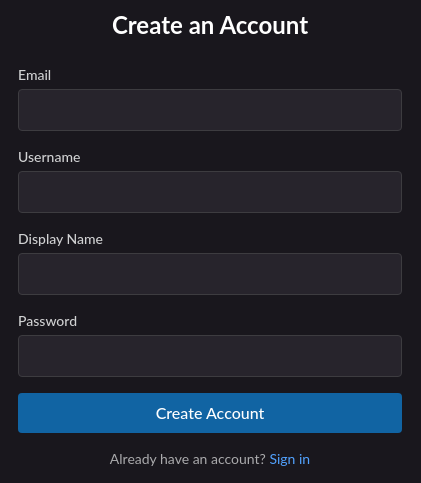
Test case: RegisterForm › shows loading state while submitting
Step 1. Type "test@example.com" into the field below "Email" → {"x": 210, "y": 110}, box x1=18 y1=89 x2=402 y2=131
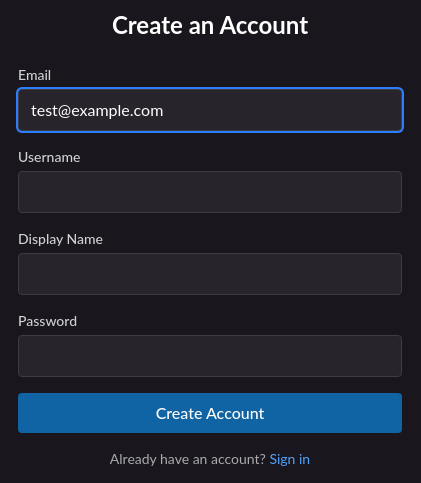
Step 2. Type "testuser" into the field below "Username" → {"x": 210, "y": 192}, box x1=18 y1=171 x2=402 y2=213
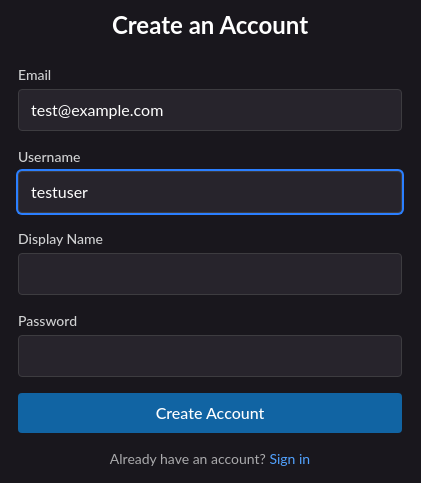
Step 3. Type "password123" into the password field → {"x": 210, "y": 356}, box x1=18 y1=335 x2=402 y2=377
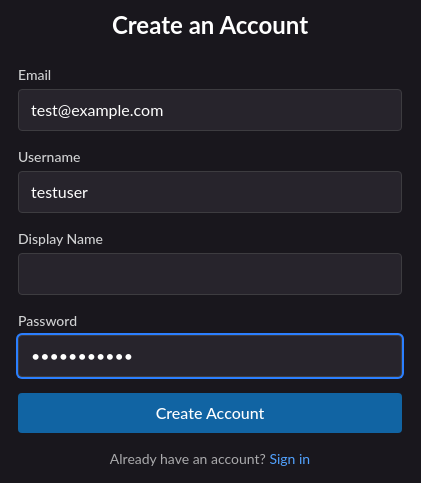
Step 4. Click the button "Create Account" → {"x": 210, "y": 413}, box x1=18 y1=393 x2=402 y2=433
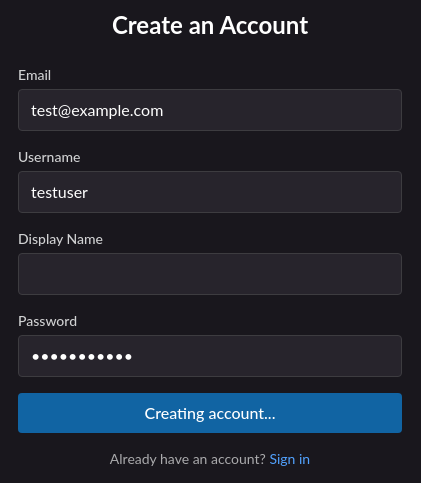
Now the button "Creating account..." is disabled, box x1=18 y1=393 x2=402 y2=433
